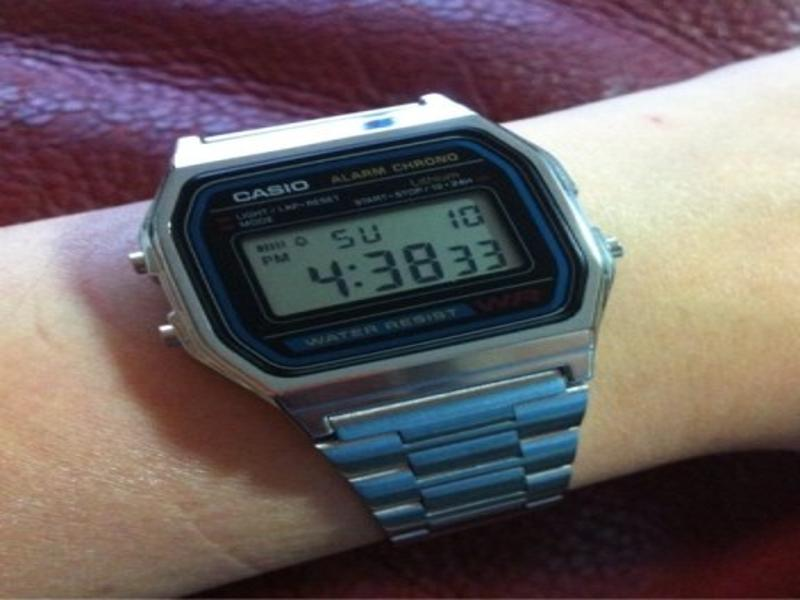watch: (135, 102, 632, 548)
